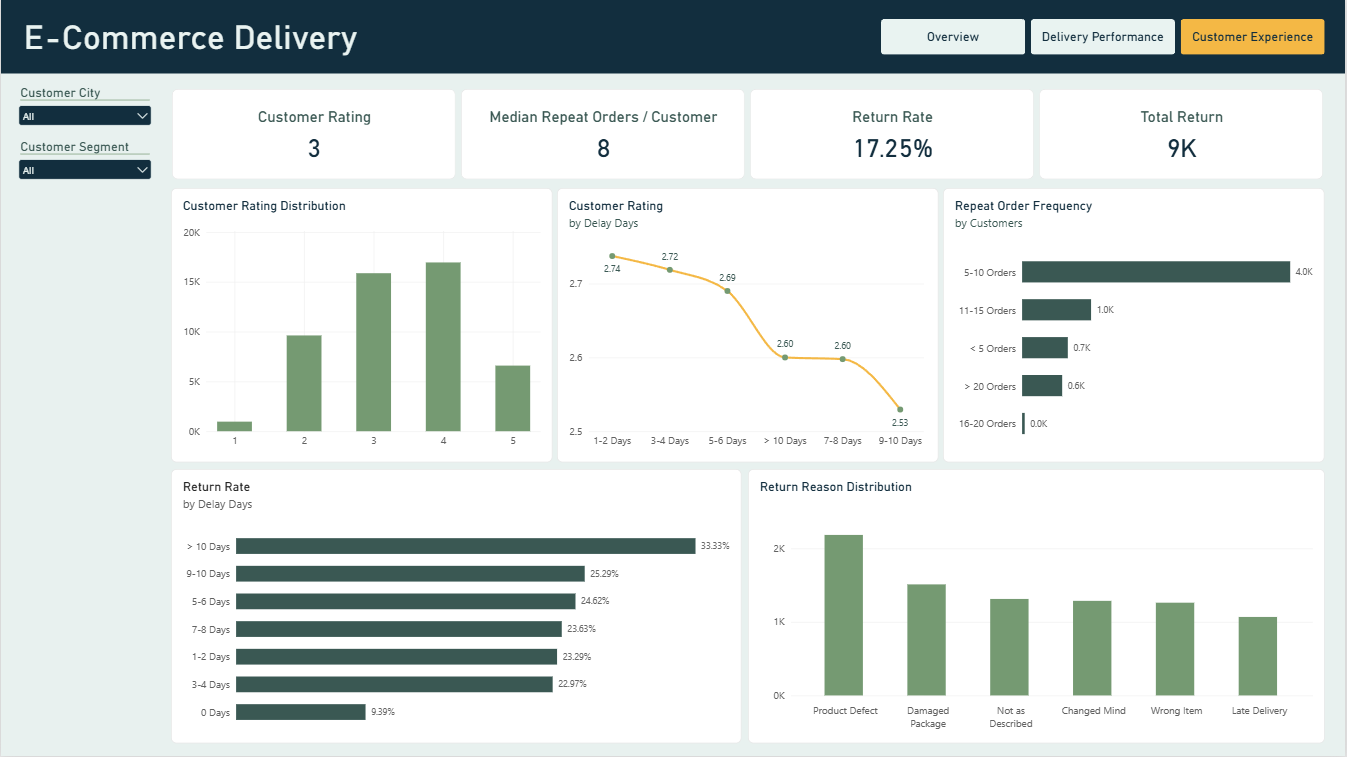

What the dashboard file says about the page in this screenshot:
{"tool":"powerbi","page":{"name":"Customer Experience","canvas":[1920,1080],"ordinal":2},"visuals":[{"type":"clusteredColumnChart","title":"Customer Rating Distribution","fields":{"Category":["FactOrders.customer_rating"],"Y":["CountNonNull(FactOrders.order_id)"]},"box":[242.3,268.7,545,392.5],"z":0},{"type":"cardVisual","fields":{"Data":["Median(FactOrders.customer_rating)","FactOrders.Return Rate","FactOrders.Total Return","Median(DimCustomers.Total Orders)"]},"box":[243.7,126.4,1647,129],"z":1000},{"type":"clusteredColumnChart","title":"Return Reason Distribution","fields":{"Category":["FactOrders.return_reason"],"Y":["CountNonNull(FactOrders.order_id)"]},"box":[1066.8,670.4,824.5,392.5],"z":2000},{"type":"clusteredBarChart","title":"Repeat Order Frequency","fields":{"Category":["DimCustomers.Order Group"],"Y":["CountNonNull(DimCustomers.customer_id)"]},"box":[1345.7,268.7,545,392.5],"z":3000},{"type":"clusteredBarChart","fields":{"Category":["FactOrders.Delay Days Group"],"Y":["FactOrders.Return Rate"]},"box":[242.3,670.4,815.3,392.5],"z":4000},{"type":"lineChart","title":"Customer Rating","fields":{"Category":["FactOrders.Delay Days Group"],"Y":["Avg(FactOrders.customer_rating)"]},"box":[793.9,268.7,545.3,392.5],"z":5000},{"type":"slicer","fields":{"Values":["DimCustomers.customer_city"]},"box":[19.8,121.2,200,70],"z":6000},{"type":"slicer","fields":{"Values":["DimCustomers.customer_segment"]},"box":[19.8,198.9,200,70],"z":7000},{"type":"shape","box":[0,0,1920.3,105.4],"z":8000},{"type":"textbox","title":"E-Commerce Delivery","box":[32.9,23.7,513.7,60.6],"z":9000},{"type":"pageNavigator","box":[1256.5,27.7,634.8,51.4],"z":10000}]}

Visuals, with their boxes in screenshot pixels (x1, y1, x2, y2), scaled from the page's 1920x1080 canvas onto the 1347x757 screenshot:
"Customer Rating Distribution" clusteredColumnChart: (left=170, top=188, right=552, bottom=463)
cardVisual - Median(FactOrders.customer_rating) x FactOrders.Return Rate: (left=171, top=89, right=1326, bottom=179)
"Return Reason Distribution" clusteredColumnChart: (left=748, top=470, right=1327, bottom=745)
"Repeat Order Frequency" clusteredBarChart: (left=944, top=188, right=1326, bottom=463)
clusteredBarChart - FactOrders.Delay Days Group x FactOrders.Return Rate: (left=170, top=470, right=742, bottom=745)
"Customer Rating" lineChart: (left=557, top=188, right=940, bottom=463)
slicer - DimCustomers.customer_city: (left=14, top=85, right=154, bottom=134)
slicer - DimCustomers.customer_segment: (left=14, top=139, right=154, bottom=188)
shape: (left=0, top=0, right=1346, bottom=74)
"E-Commerce Delivery" textbox: (left=23, top=17, right=383, bottom=59)
pageNavigator: (left=882, top=19, right=1327, bottom=55)
